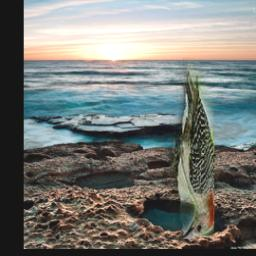Woodpecker: (163, 57, 215, 239)
